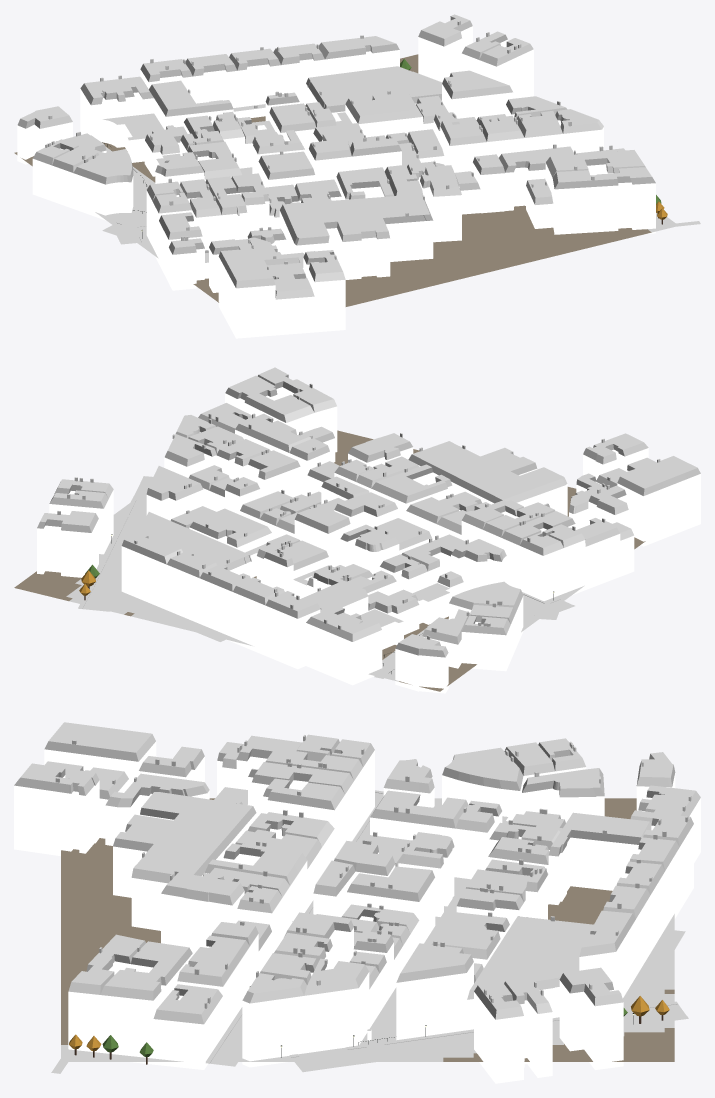
The model's file is zone_D1.glb.
3 views of the same model, one above another, from view 1: azimuth 30°, elevation 25°; view 2: azimuth 150°, elevation 25°; view 3: azimuth 270°, elevation 25° (orthographic). The views are drawn at different scales.
Visible parts, largest first — view 1: zone_D1_batiments, zone_D1_terrain, zone_D1_sol_NOCOL; view 2: zone_D1_batiments, zone_D1_terrain, zone_D1_sol_NOCOL; view 3: zone_D1_batiments, zone_D1_terrain, zone_D1_sol_NOCOL, zone_D1_decor_NOCOL.
Part boxes in pixels (x1,y1,x2,y2): zone_D1_batiments: (17, 14, 655, 338); zone_D1_terrain: (14, 54, 675, 306); zone_D1_sol_NOCOL: (73, 136, 700, 244); zone_D1_batiments: (37, 367, 700, 693); zone_D1_terrain: (14, 430, 645, 691); zone_D1_sol_NOCOL: (78, 476, 574, 678); zone_D1_batiments: (14, 722, 700, 1083); zone_D1_terrain: (61, 798, 674, 1061); zone_D1_sol_NOCOL: (51, 790, 688, 1073); zone_D1_decor_NOCOL: (69, 986, 669, 1064).
Size of the model in its own units: 207 by 25.16 by 205.
